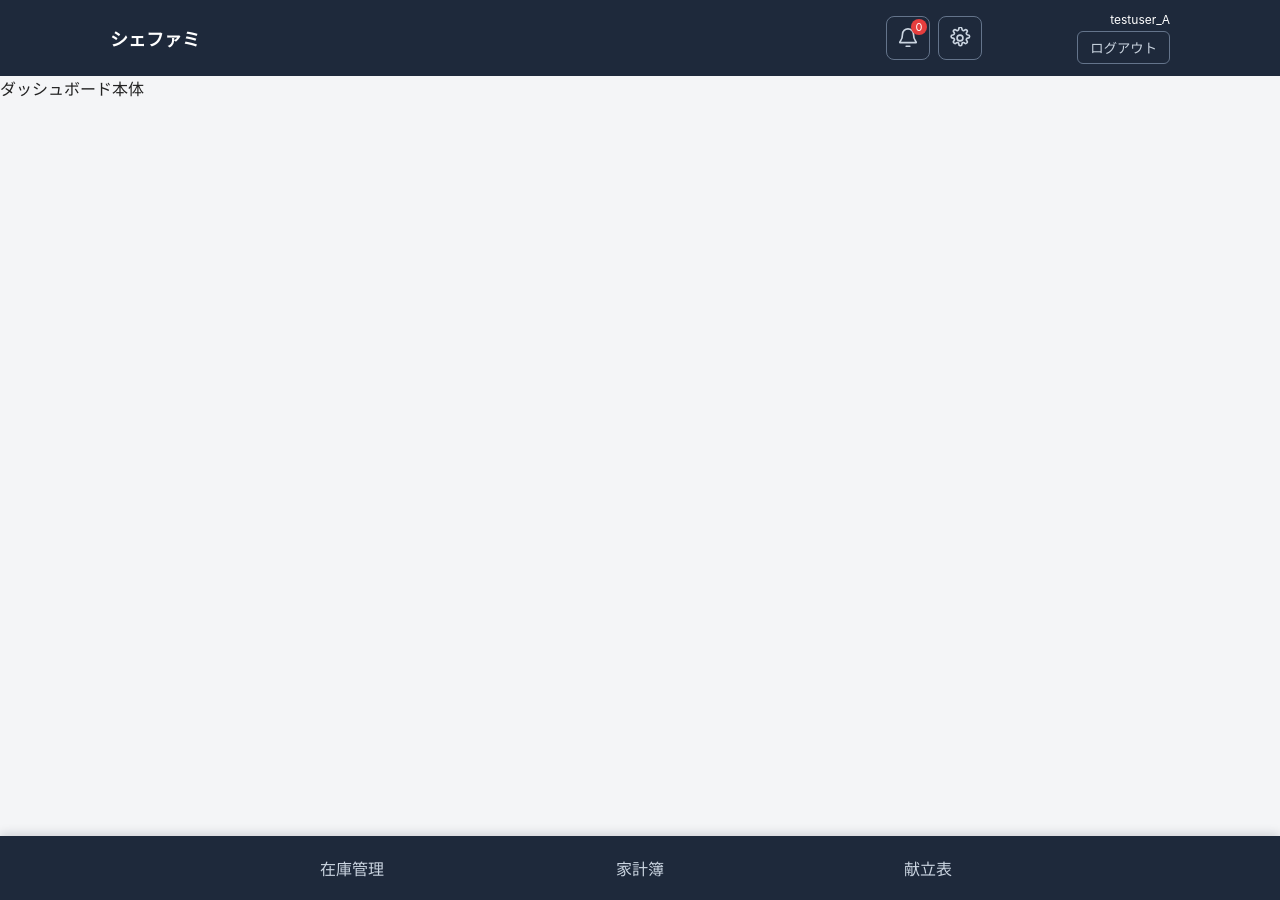
Test: AppLayout › 遅延ログアウトの完了が別ユーザーの新セッションを中断しない
Expected: the text "testuser_A" is shown, [1110,12,1170,27]
Step 1. Click the button "ログアウト" → (1124, 48), box [1077,31,1170,64]
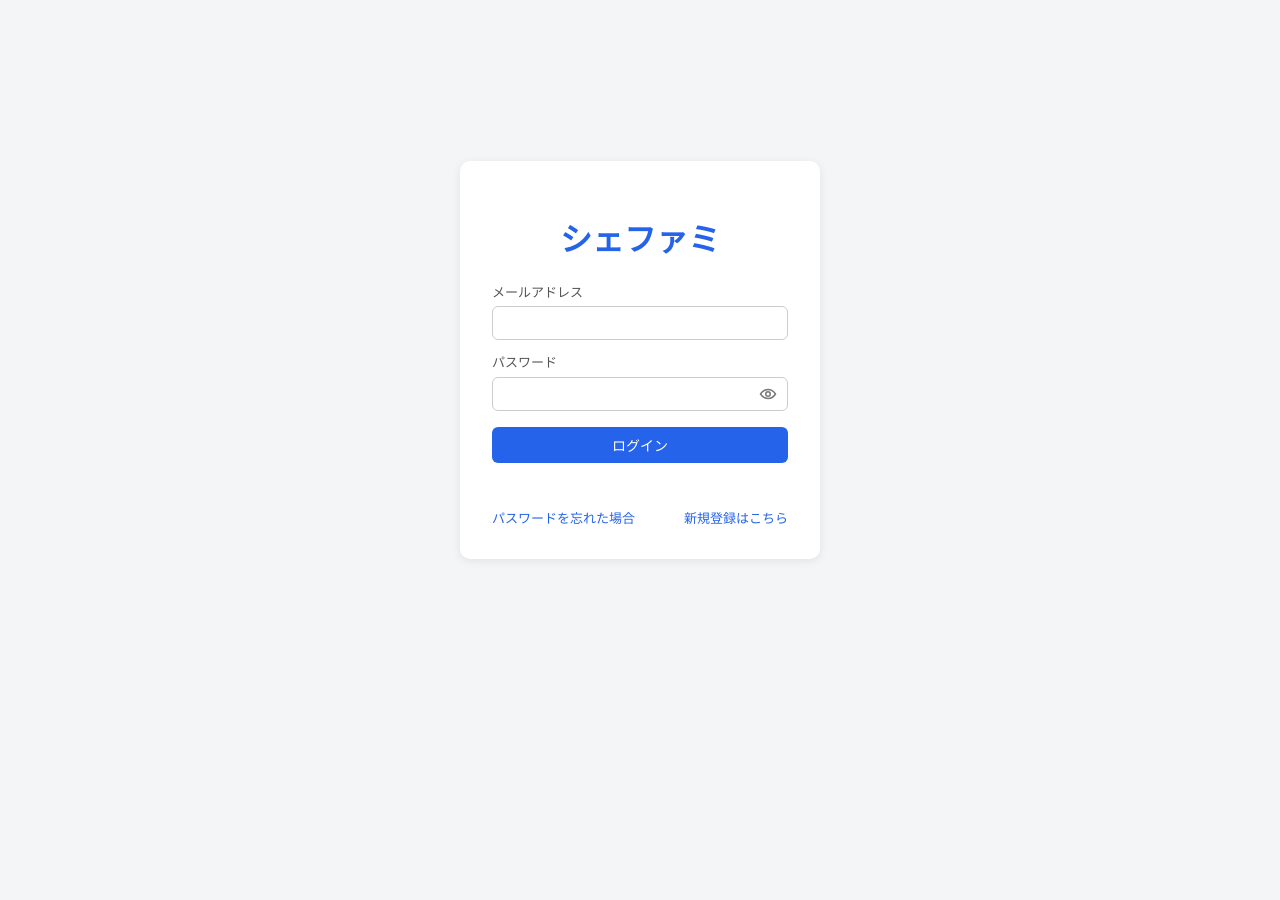
Step 2. Type "testuser_b@example.com" into the field labelled "メールアドレス" → (640, 323), box [492,306,788,340]
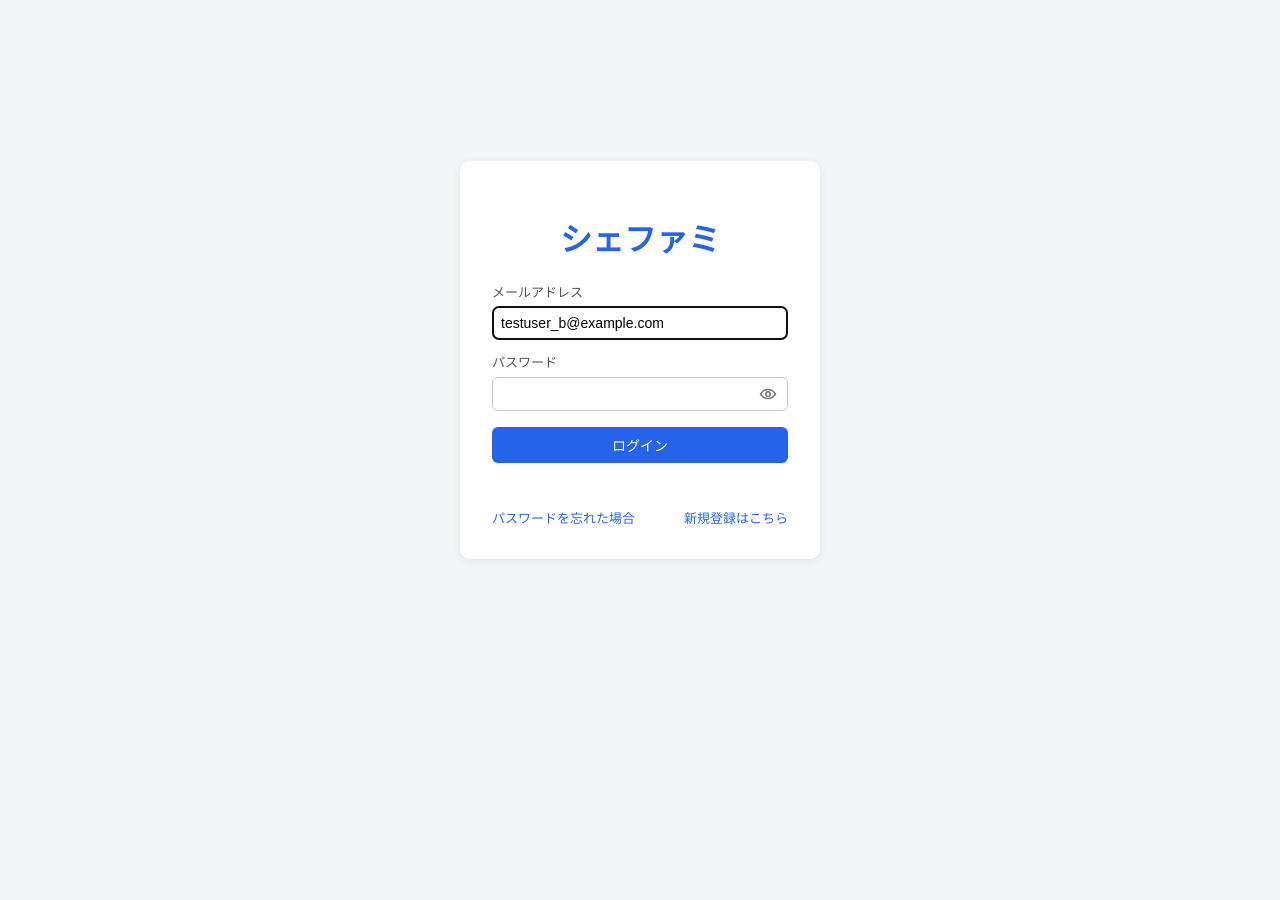
Step 3. Type "TestPass123!" into the password field labelled "パスワード" → (640, 394), box [492,377,788,411]
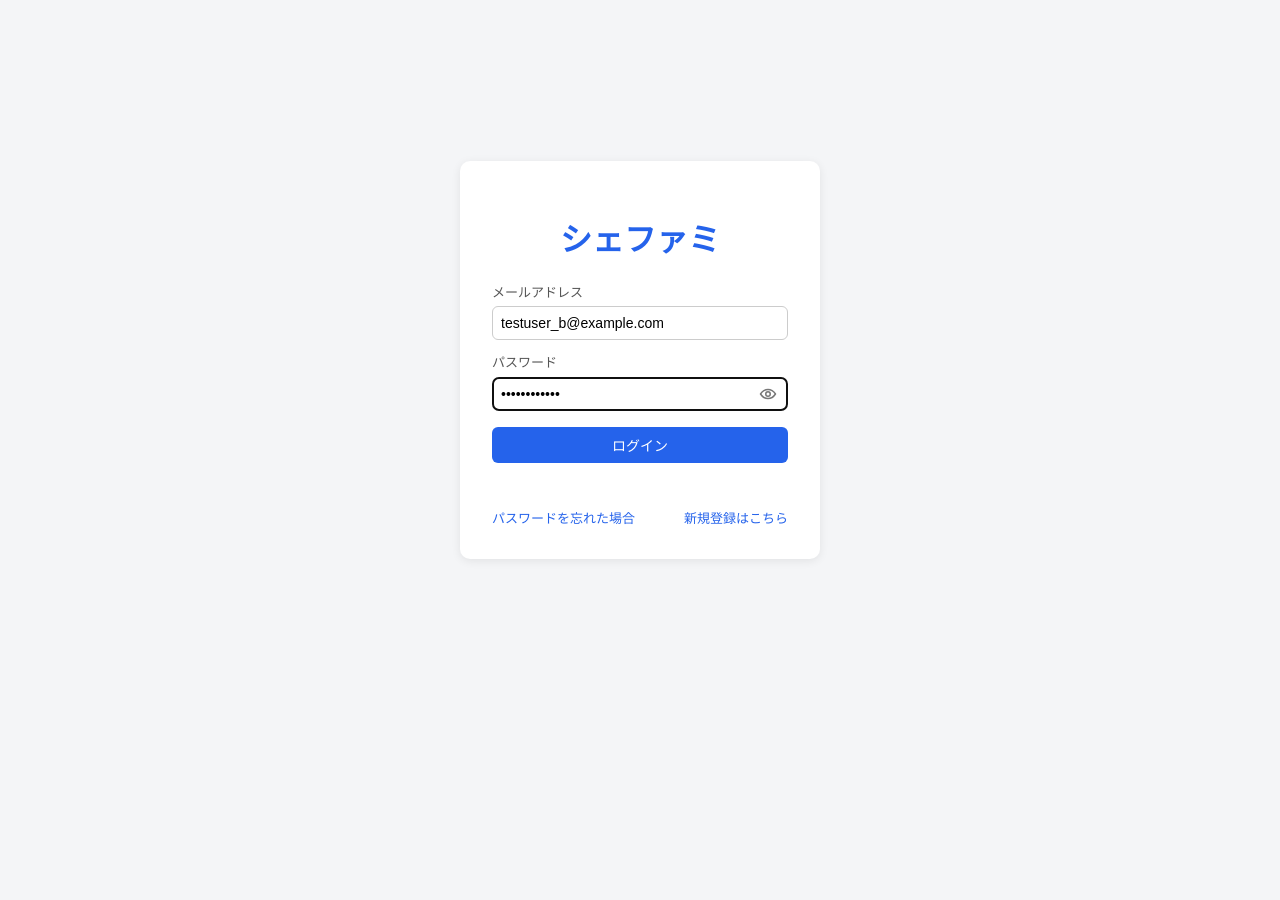
Step 4. Click the button "ログイン" → (640, 445), box [492,427,788,463]
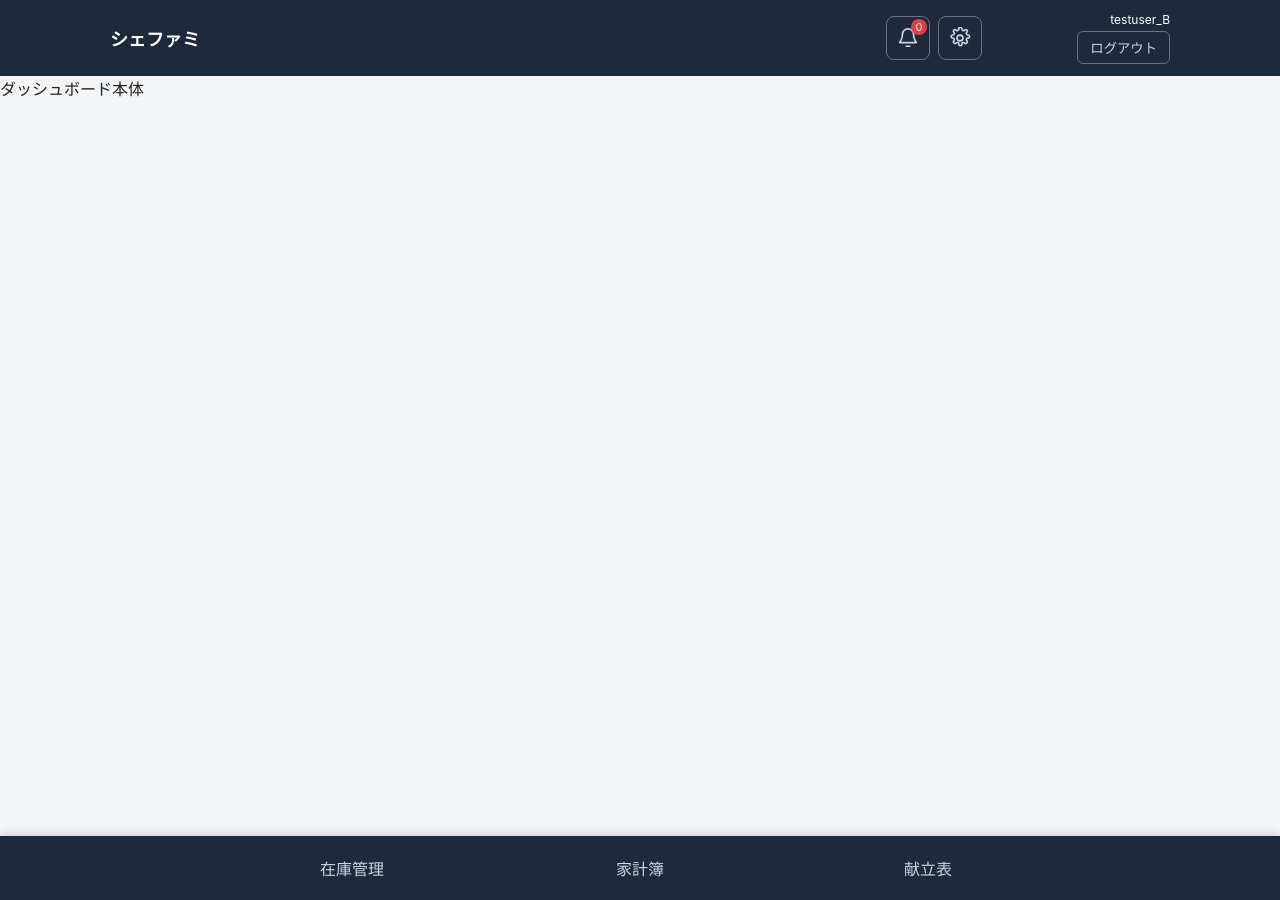
Expected: the text "ダッシュボード本体" is shown, [0,79,144,99]
Expected: the text "testuser_B" is shown, [1110,12,1170,27]
